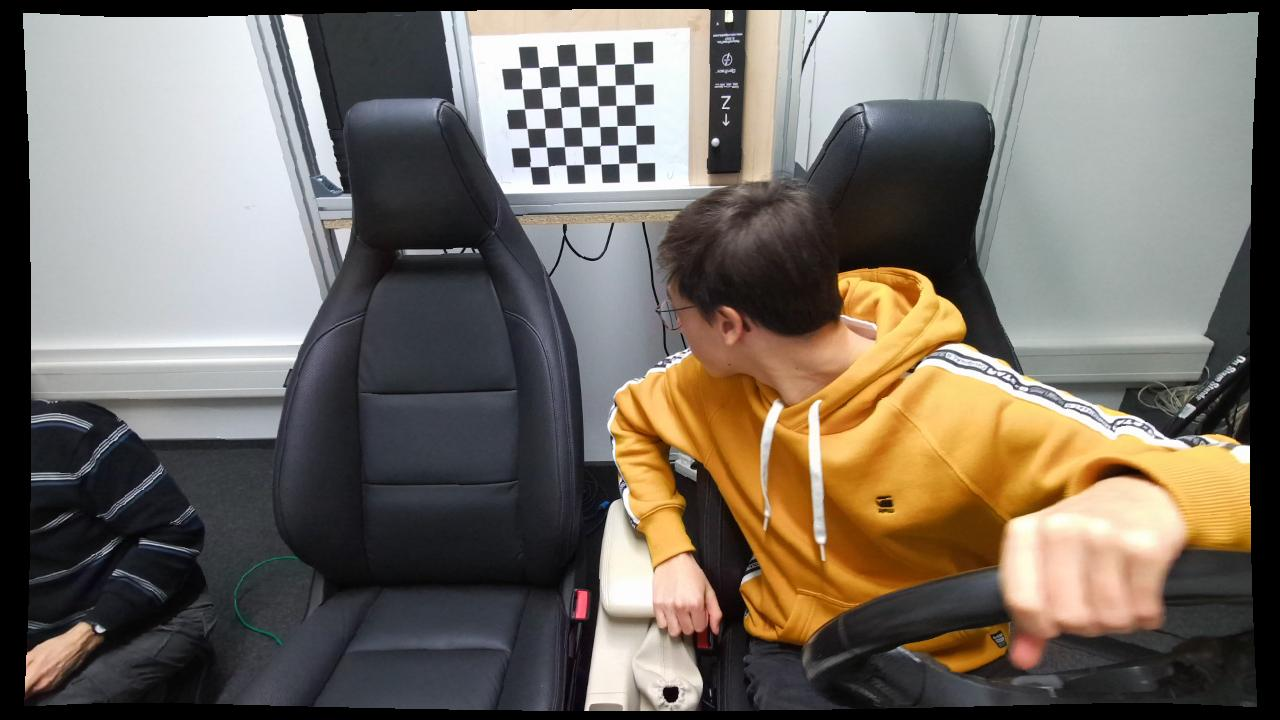Distracted: (602, 175, 1148, 710)
